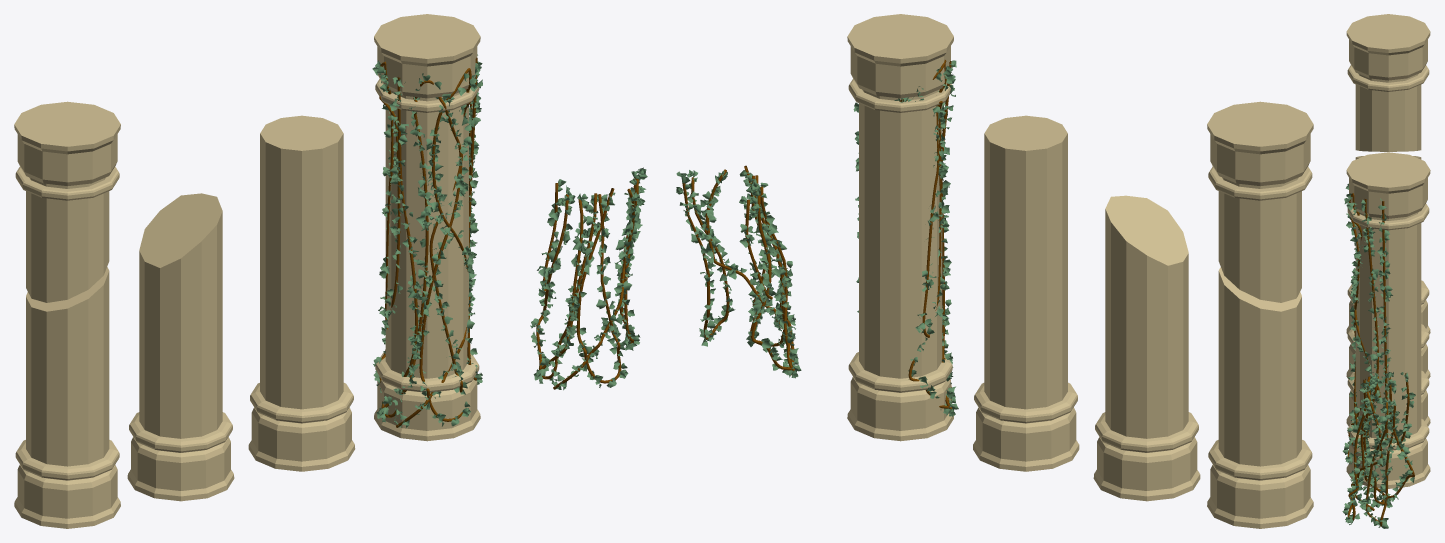
File: vines_and_pillars.fbx
3 views of the same model, side by side, from view 1: azimuth 30°, elevation 25°; view 2: azimuth 150°, elevation 25°; view 3: azimuth 270°, elevation 25° (orthographic). The views are drawn at different scales.
Parts seen in each view (by area): view 1: PİLLAR2, PİLLAR1, PİLLAR3, brokenpillar1, brokenpillar2, vinelong, wineshort; view 2: PİLLAR1, PİLLAR2, PİLLAR3, brokenpillar1, brokenpillar2, wineshort, vinelong; view 3: PİLLAR1, brokenpillar2, wineshort, vinelong, PİLLAR2, PİLLAR3, brokenpillar1.
Boxes of the visible parts, <box> form: PİLLAR2: <box>248,115,355,471</box>; PİLLAR1: <box>374,14,480,441</box>; PİLLAR3: <box>127,193,234,501</box>; brokenpillar1: <box>14,267,120,528</box>; brokenpillar2: <box>14,101,120,302</box>; vinelong: <box>372,54,482,428</box>; wineshort: <box>530,167,647,390</box>; PİLLAR1: <box>847,14,953,441</box>; PİLLAR2: <box>973,115,1079,471</box>; PİLLAR3: <box>1093,195,1200,501</box>; brokenpillar1: <box>1207,267,1313,528</box>; brokenpillar2: <box>1207,101,1313,302</box>; wineshort: <box>676,165,801,378</box>; vinelong: <box>853,60,958,416</box>; PİLLAR1: <box>1346,152,1430,488</box>; brokenpillar2: <box>1346,14,1430,151</box>; wineshort: <box>1342,372,1415,528</box>; vinelong: <box>1342,183,1392,467</box>; PİLLAR2: <box>1346,370,1430,426</box>; PİLLAR3: <box>1346,324,1430,379</box>; brokenpillar1: <box>1346,156,1430,334</box>.
Bounding box in the file's own units: 13.58 × 7.91 × 2.1.
